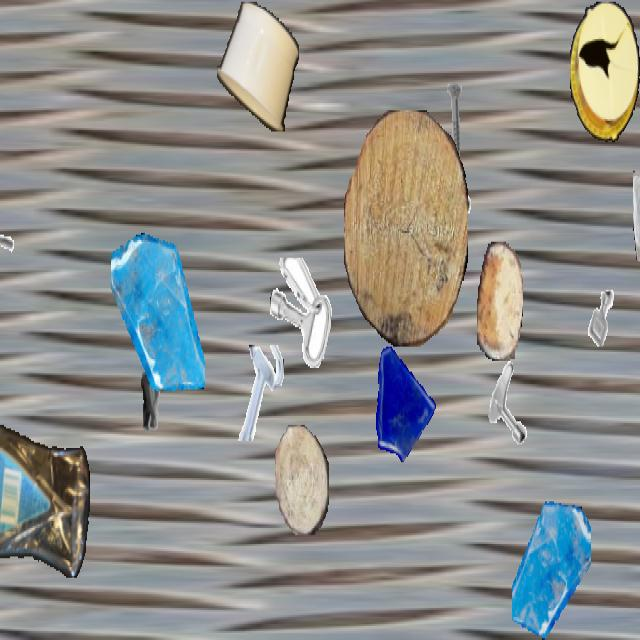glass: (111, 231, 205, 398), (512, 500, 590, 638), (366, 336, 436, 460), (633, 164, 640, 266)
metal: (419, 176, 481, 286), (270, 258, 332, 368), (232, 345, 286, 441), (482, 356, 536, 452), (126, 359, 176, 448), (431, 80, 479, 165), (580, 279, 624, 357), (0, 192, 24, 263)
plastic: (0, 414, 89, 585), (217, 2, 299, 130), (570, 2, 640, 140)
wood: (344, 110, 468, 345), (275, 425, 329, 535), (477, 242, 523, 359)
